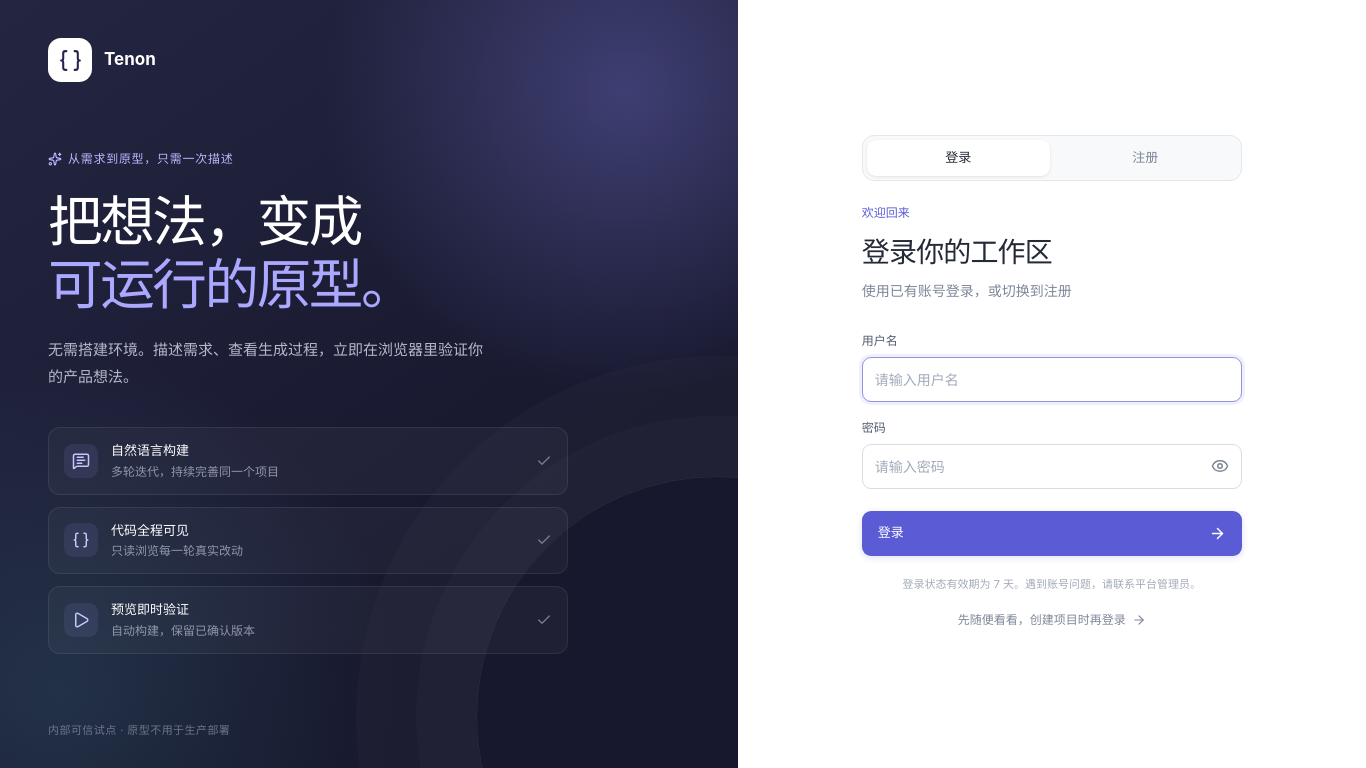
LoginPage › 错误密码或停用账号的 401 显示统一登录错误且不回跳
Type "alice" into the field with id "username" at (1052,379), box [862,357,1242,402]
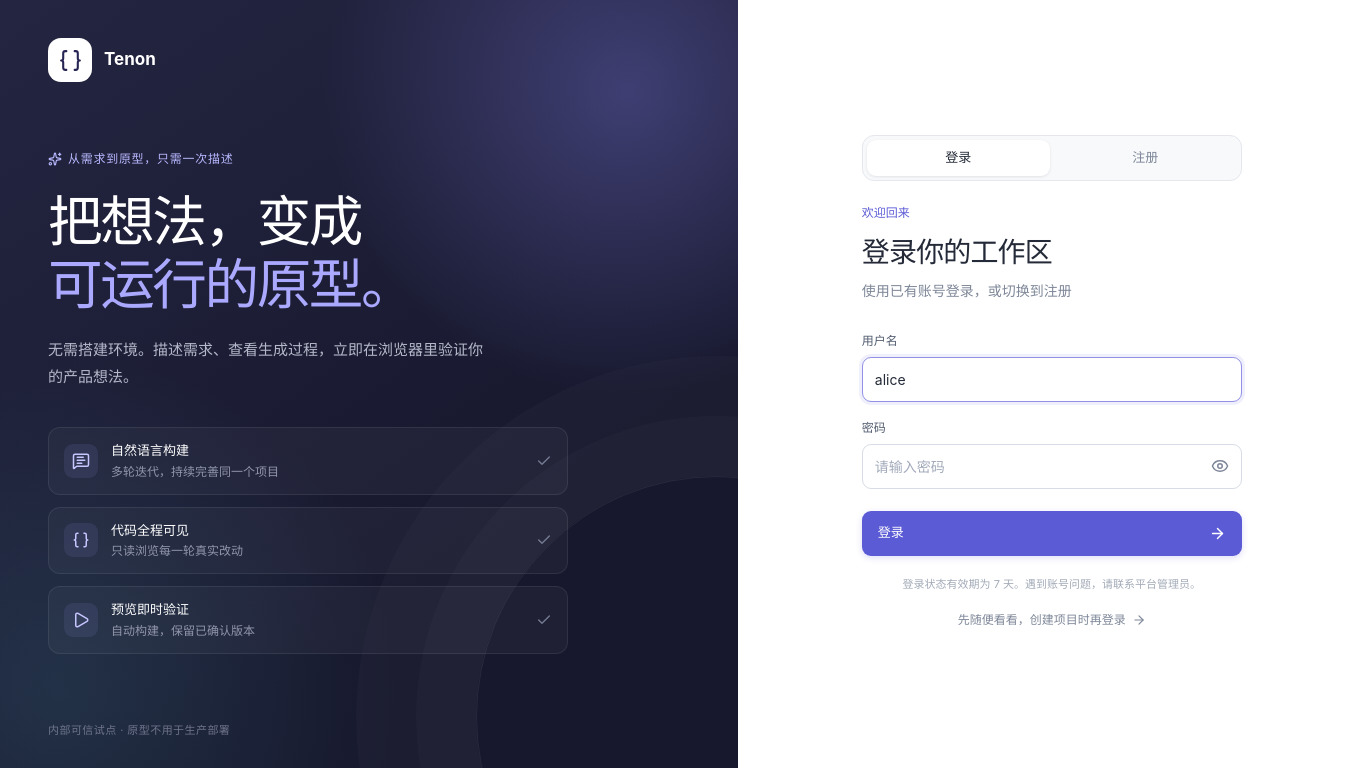
Type "password123" into the password field labelled "密码" at (1052,466), box [862,444,1242,489]
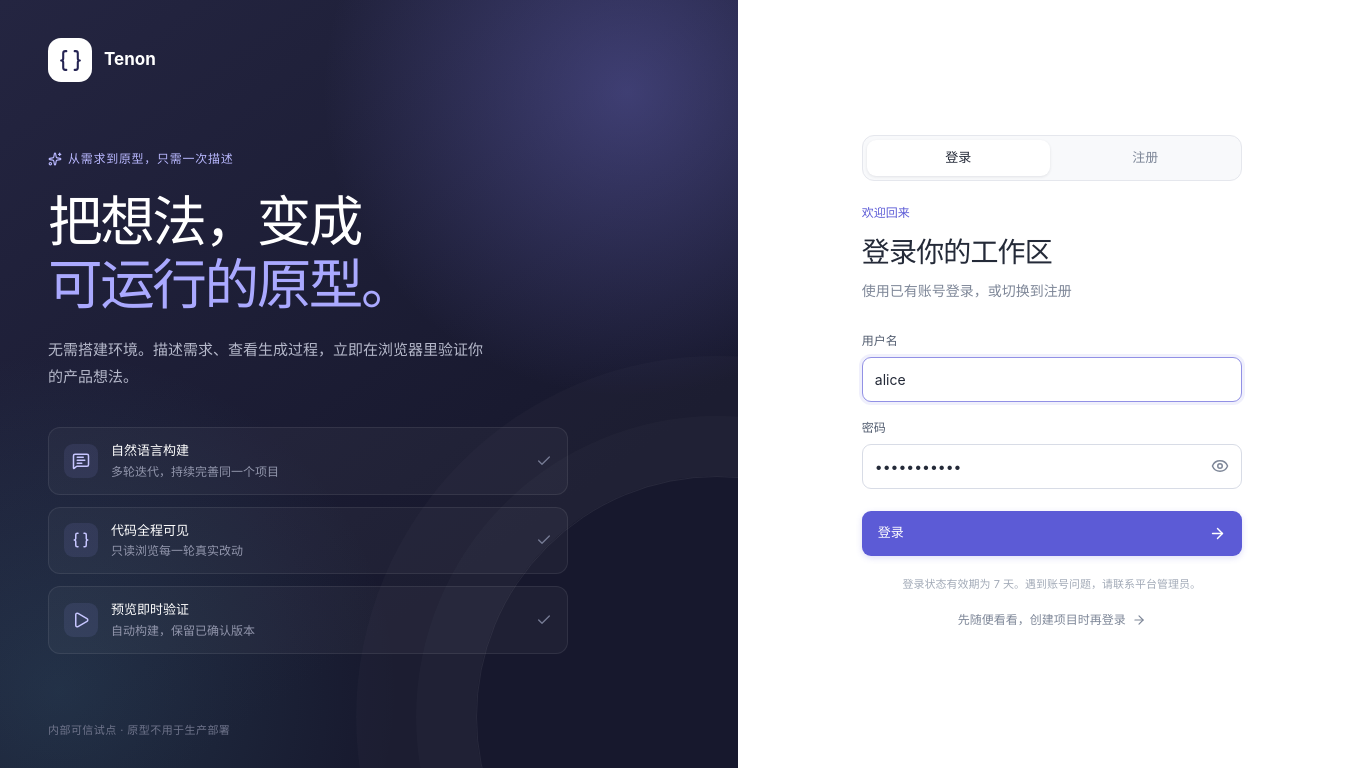
Submit the form, box [862,135,1242,593]
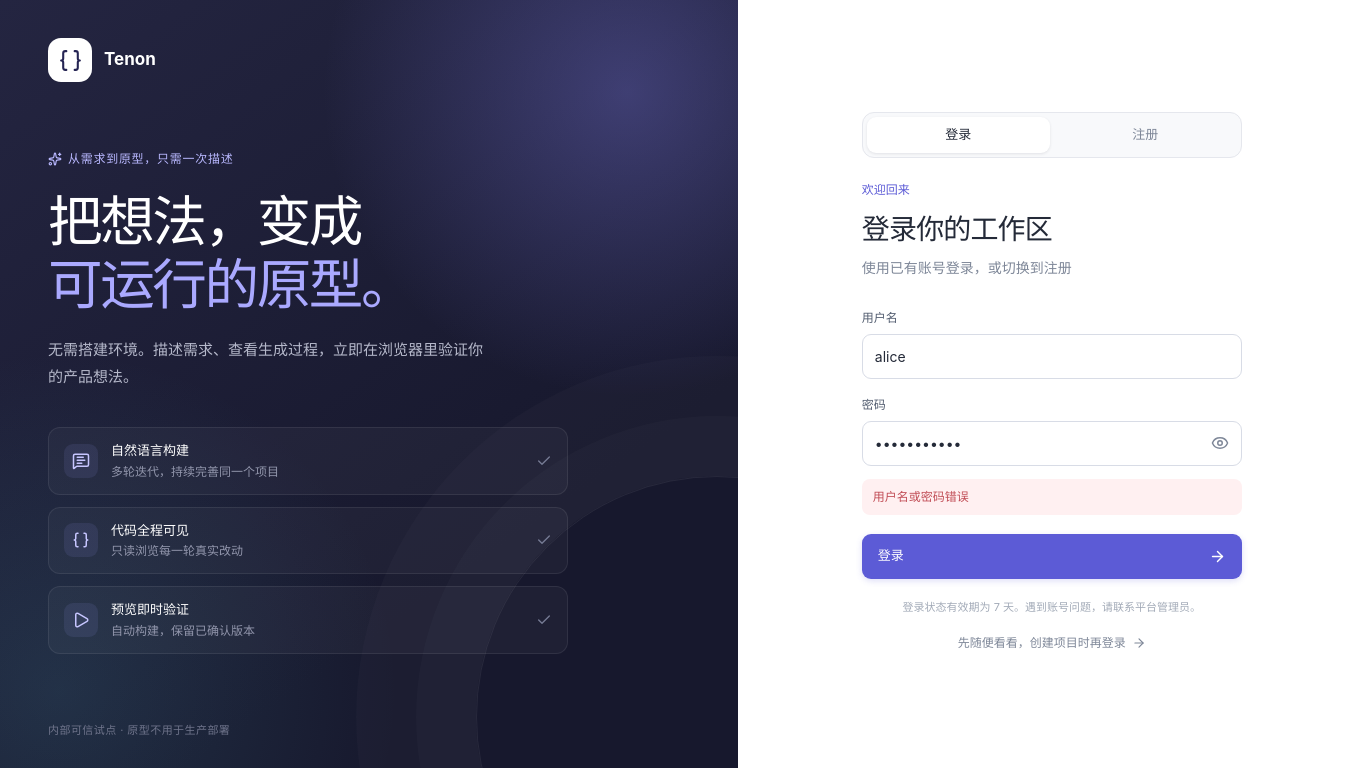
Expected: the field with id "username" is enabled, [862,334,1242,379]
Now the message "用户名或密码错误" is shown, box [862,479,1242,515]
